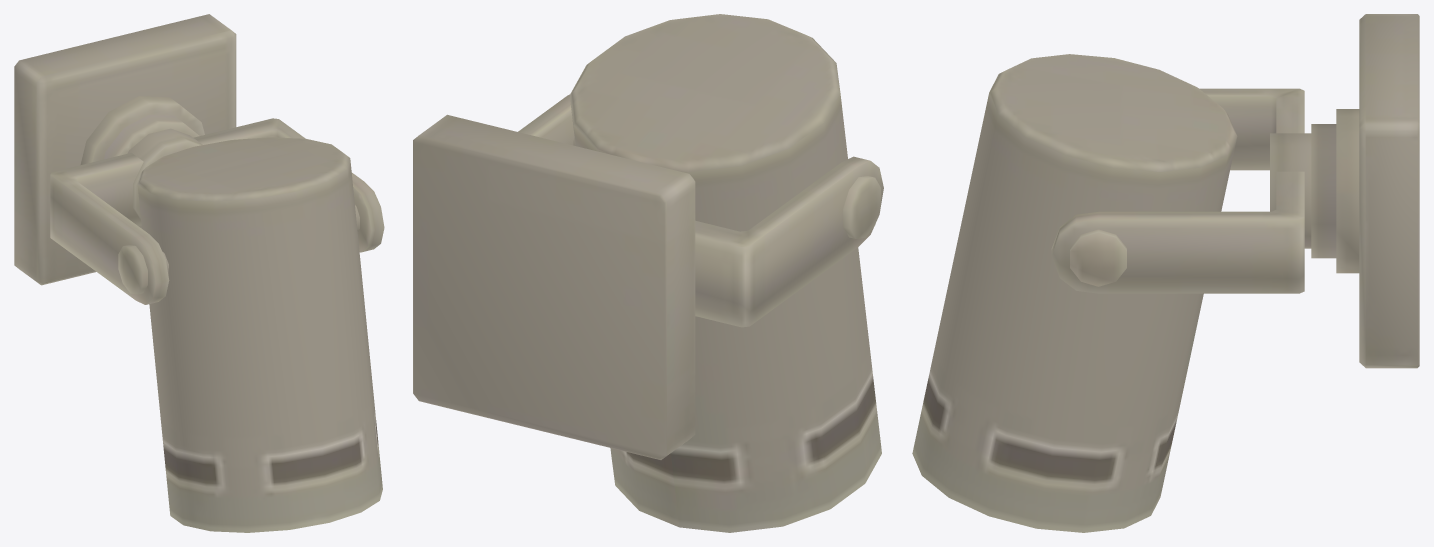
The picture shows the model from 3 angles, left to right: view 1: azimuth 30°, elevation 25°; view 2: azimuth 150°, elevation 25°; view 3: azimuth 270°, elevation 25°; orthographic projection. The views are drawn at different scales.
Bounding box in the file's own units: 2.69 × 3.92 × 4.2.
Materials: 1 (1 with a texture image).
